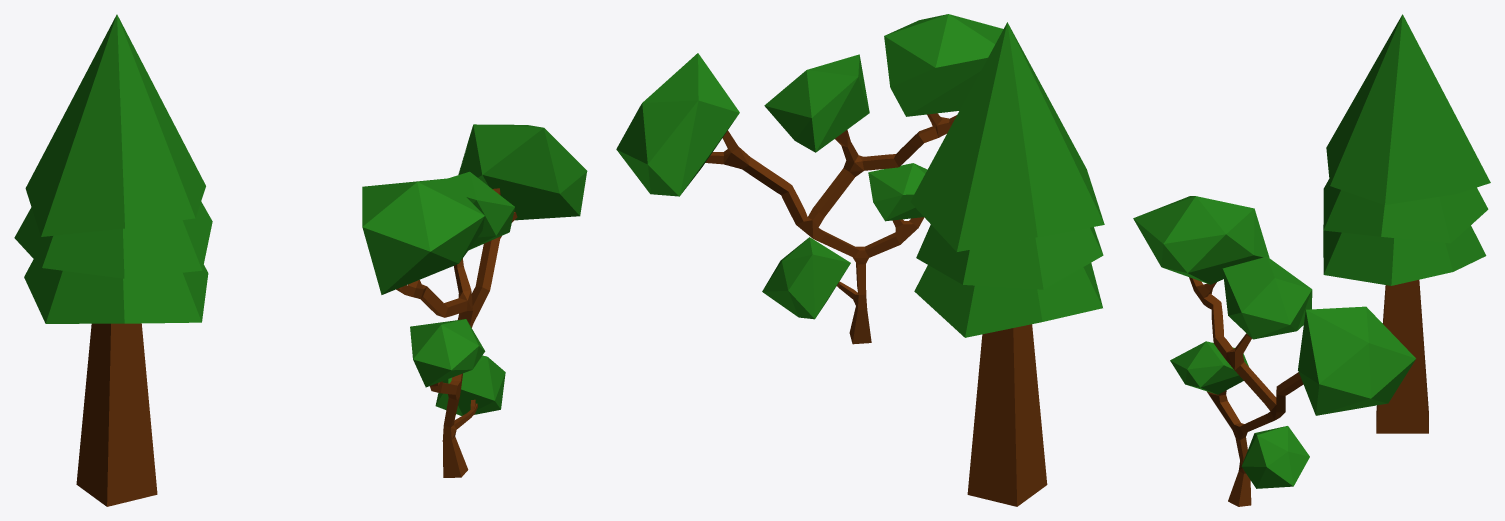
The model's file is trees.fbx.
3 views of the same model, side by side, from view 1: azimuth 30°, elevation 25°; view 2: azimuth 150°, elevation 25°; view 3: azimuth 270°, elevation 25° (orthographic). The views are drawn at different scales.
Visible parts, largest first — view 1: pine tree, tree; view 2: pine tree, tree; view 3: pine tree, tree.
Part boxes in pixels (x1,y1,x2,y2): pine tree: (14,14,212,506); tree: (362,124,587,477); pine tree: (910,22,1104,506); tree: (616,14,1003,344); pine tree: (1323,14,1490,433); tree: (1133,196,1415,506).
Size of the model in its own units: 634 by 566 by 449.
